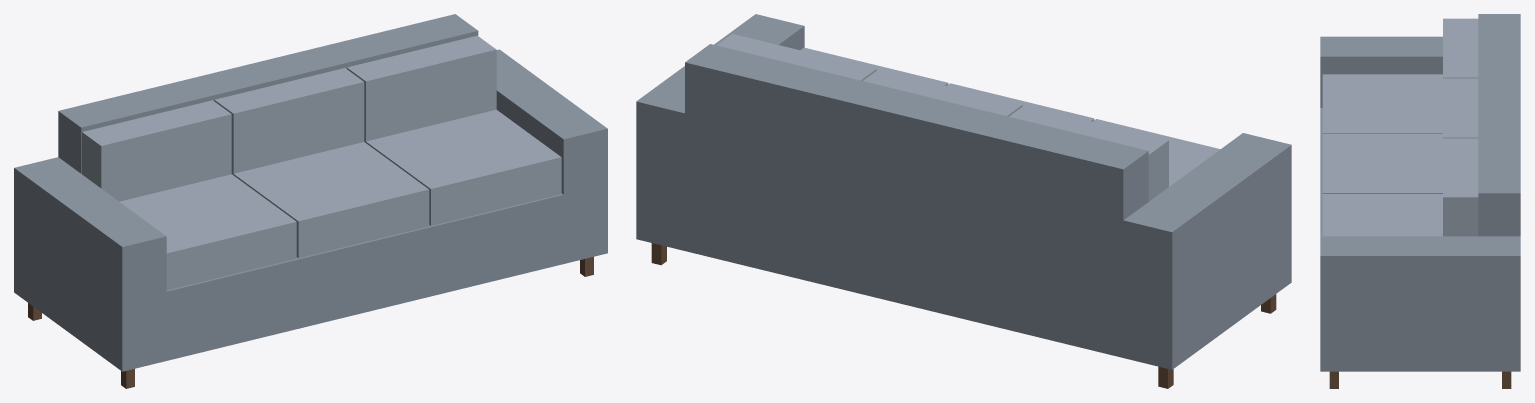
3 renders of one model, left to right at view 1: azimuth 30°, elevation 25°; view 2: azimuth 150°, elevation 25°; view 3: azimuth 270°, elevation 25°, orthographic. The views are drawn at different scales.
Parts seen in each view (by area): view 1: Frame, SeatCushions, BackCushions, Legs; view 2: Frame, BackCushions, SeatCushions, Legs; view 3: Frame, SeatCushions, BackCushions, Legs.
Boxes of the visible parts, <box> form: Frame: <box>14,14,607,371</box>; SeatCushions: <box>119,109,561,290</box>; BackCushions: <box>82,35,496,201</box>; Legs: <box>28,257,593,388</box>; Frame: <box>636,14,1291,369</box>; BackCushions: <box>717,34,1168,201</box>; SeatCushions: <box>801,47,1220,186</box>; Legs: <box>651,243,1276,388</box>; Frame: <box>1320,14,1520,371</box>; SeatCushions: <box>1322,74,1442,236</box>; BackCushions: <box>1443,18,1478,236</box>; Legs: <box>1329,371,1511,388</box>.
Size of the model in its own units: 2.2 by 0.84 by 0.85.
